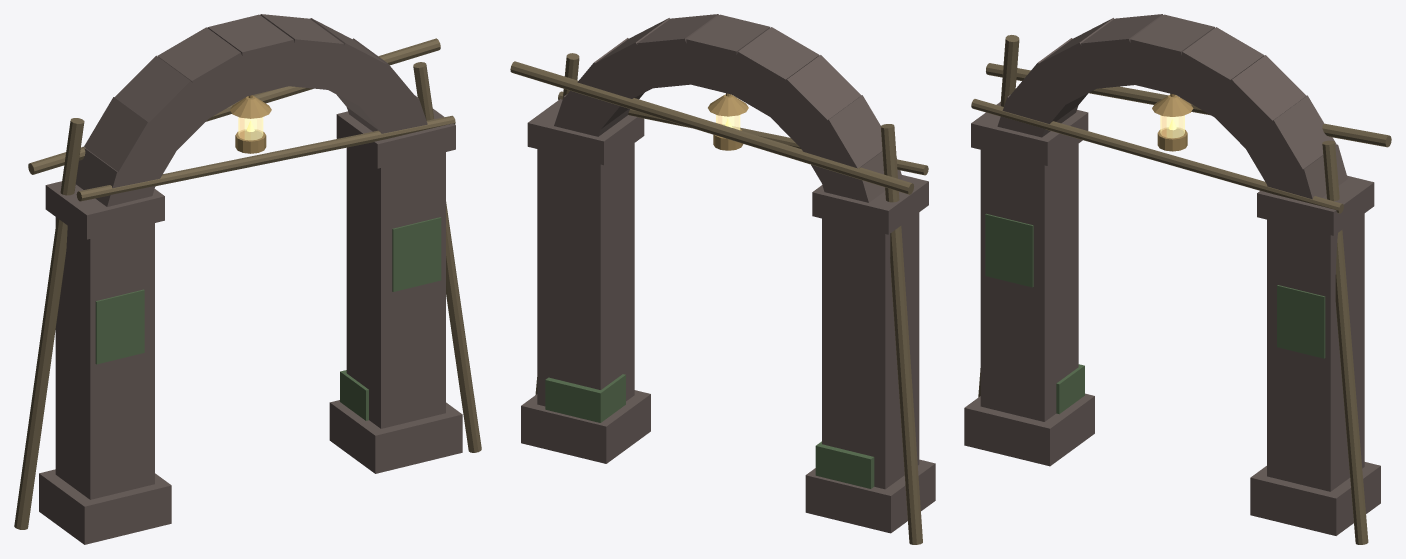
The model's file is portal_tatden.glb.
3 views of the same model, side by side, from view 1: azimuth 30°, elevation 25°; view 2: azimuth 150°, elevation 25°; view 3: azimuth 330°, elevation 25° (orthographic). The views are drawn at different scales.
Visible parts, largest first — view 1: TatDen_Portal_Gate; view 2: TatDen_Portal_Gate; view 3: TatDen_Portal_Gate.
Boxes of the visible parts, bbox=[...] form: TatDen_Portal_Gate: bbox=[14, 14, 481, 544]; TatDen_Portal_Gate: bbox=[510, 14, 935, 544]; TatDen_Portal_Gate: bbox=[964, 14, 1391, 544].
Bounding box in the file's own units: 5.18 × 5.25 × 0.95.
